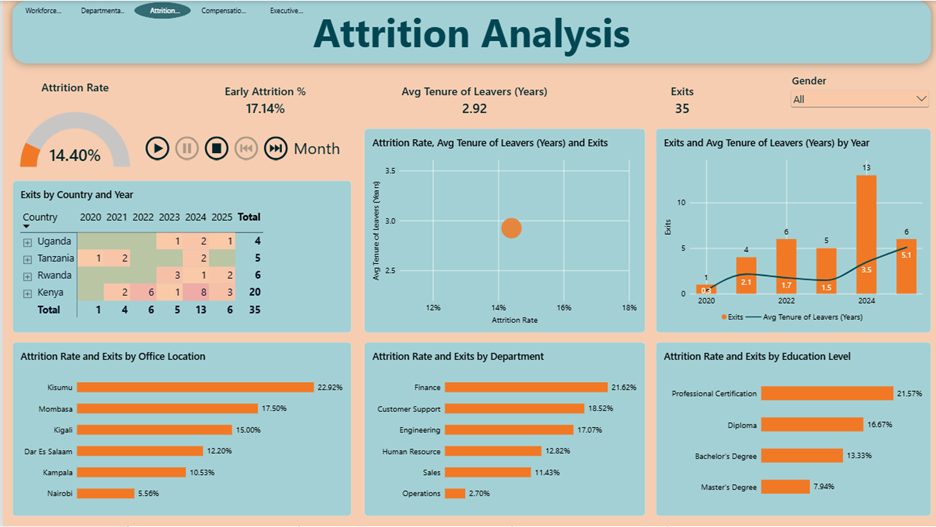

The page's visual inventory and layout, read from the dashboard file:
{"tool":"powerbi","page":{"name":"Attrition Analysis","canvas":[1920,1080],"ordinal":3},"visuals":[{"type":"gauge","fields":{"Y":["Workforce Data.Attrition Rate"]},"box":[19.1,147.9,257.7,229],"z":0},{"type":"cardVisual","fields":{"Data":["Workforce Data.Avg Tenure of Leavers (Years)"]},"box":[792.1,90.7,353.1,229],"z":1000},{"type":"cardVisual","fields":{"Data":["Workforce Data.Early Attrition %"]},"box":[408,90.7,262.5,229],"z":2000},{"type":"textbox","box":[19.1,0,1887.3,128.8],"z":3000},{"type":"lineClusteredColumnComboChart","fields":{"Category":["Date.Date Hierarchy.Year"],"Y":["Workforce Data.Exits"],"Y2":["Workforce Data.Avg Tenure of Leavers (Years)"]},"box":[1340.9,262.5,565.5,419.9],"z":4000},{"type":"barChart","fields":{"Category":["Workforce Data.Office Location"],"Y":["Workforce Data.Attrition Rate"]},"box":[19.1,701.5,696.7,357.9],"z":5000},{"type":"barChart","fields":{"Category":["Workforce Data.Department"],"Y":["Workforce Data.Attrition Rate"]},"box":[742,701.5,577.4,357.9],"z":6000},{"type":"barChart","fields":{"Category":["Workforce Data.Education Level"],"Y":["Workforce Data.Attrition Rate"]},"box":[1340.9,701.5,565.5,357.9],"z":7000},{"type":"scatterChart","fields":{"Size":["Workforce Data.Exits"],"X":["Workforce Data.Attrition Rate"],"Y":["Workforce Data.Avg Tenure of Leavers (Years)"]},"box":[742,262.5,577.4,419.9],"z":8000},{"type":"pivotTable","title":"Exits by Country and Year","fields":{"Columns":["Date.Date Hierarchy.Year"],"Rows":["Location.Country Hierarchy.Country","Location.Country Hierarchy.Location"],"Values":["Workforce Data.Exits"]},"box":[19.1,369.8,696.7,312.6],"z":9000},{"type":"PBI_CV_16948668_E17D_454B_8664_2F2C470EA8C1","fields":{"category":["Date.Month"]},"box":[276.8,264.8,446.2,78.7],"z":10000},{"type":"cardVisual","fields":{"Data":["Workforce Data.Exits"]},"box":[1266.9,90.7,257.7,229],"z":11000},{"type":"slicer","fields":{"Values":["Workforce Data.Gender"]},"box":[1612.9,147.4,294.8,116.2],"z":12000},{"type":"pageNavigator","box":[19.1,2.4,620.3,35.8],"z":13000}]}

Visuals, with their boxes in screenshot pixels (x1, y1, x2, y2), scaled from the page's 1920x1080 canvas onto the 936x527 screenshot:
gauge - Workforce Data.Attrition Rate: [left=9, top=72, right=135, bottom=184]
cardVisual - Workforce Data.Avg Tenure of Leavers (Years): [left=386, top=44, right=558, bottom=156]
cardVisual - Workforce Data.Early Attrition %: [left=199, top=44, right=327, bottom=156]
textbox: [left=9, top=0, right=929, bottom=63]
lineClusteredColumnComboChart - Date.Date Hierarchy.Year x Workforce Data.Exits: [left=654, top=128, right=929, bottom=333]
barChart - Workforce Data.Office Location x Workforce Data.Attrition Rate: [left=9, top=342, right=349, bottom=517]
barChart - Workforce Data.Department x Workforce Data.Attrition Rate: [left=362, top=342, right=643, bottom=517]
barChart - Workforce Data.Education Level x Workforce Data.Attrition Rate: [left=654, top=342, right=929, bottom=517]
scatterChart - Workforce Data.Exits x Workforce Data.Attrition Rate: [left=362, top=128, right=643, bottom=333]
"Exits by Country and Year" pivotTable: [left=9, top=180, right=349, bottom=333]
PBI_CV_16948668_E17D_454B_8664_2F2C470EA8C1 - Date.Month: [left=135, top=129, right=352, bottom=168]
cardVisual - Workforce Data.Exits: [left=618, top=44, right=743, bottom=156]
slicer - Workforce Data.Gender: [left=786, top=72, right=930, bottom=129]
pageNavigator: [left=9, top=1, right=312, bottom=19]
